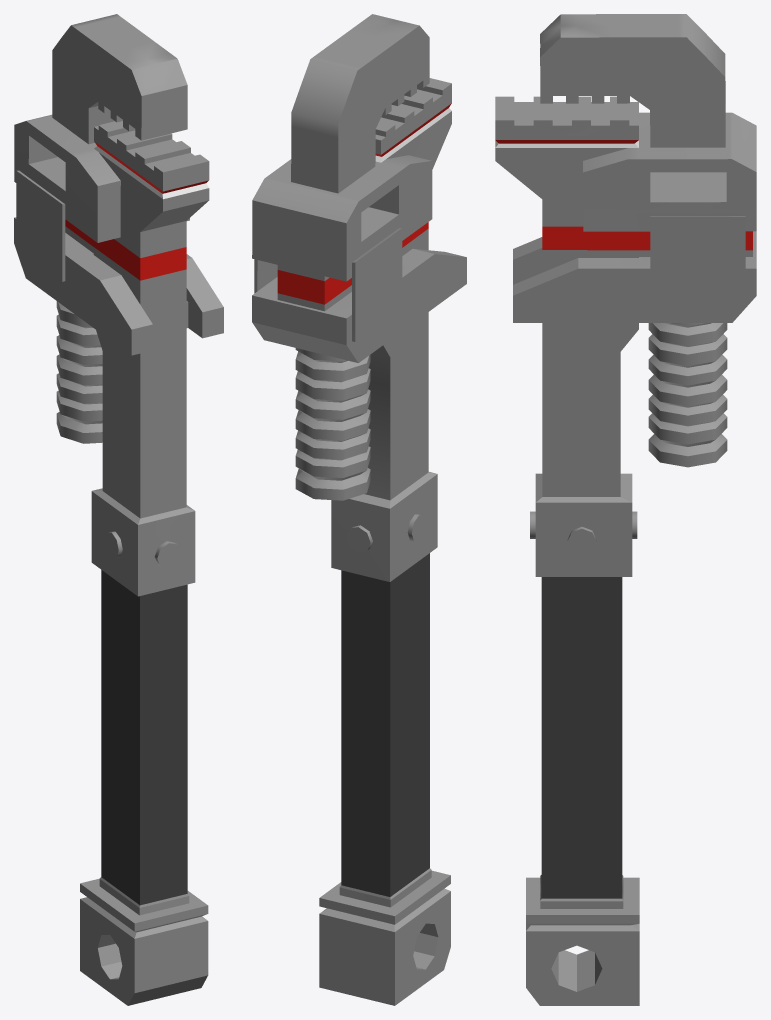
Rendered from Wrench.fbx.
3 renders of one model, left to right at view 1: azimuth 30°, elevation 25°; view 2: azimuth 150°, elevation 25°; view 3: azimuth 270°, elevation 25°, orthographic. The views are drawn at different scales.
Visible parts, largest first — view 1: Wrench; view 2: Wrench; view 3: Wrench.
Boxes of the visible parts, left/top/right/bottom form: Wrench: left=14, top=14, right=223, bottom=1005; Wrench: left=252, top=14, right=466, bottom=1005; Wrench: left=495, top=14, right=756, bottom=1005.
Bounding box in the file's own units: 6.12 × 54.88 × 13.53.
